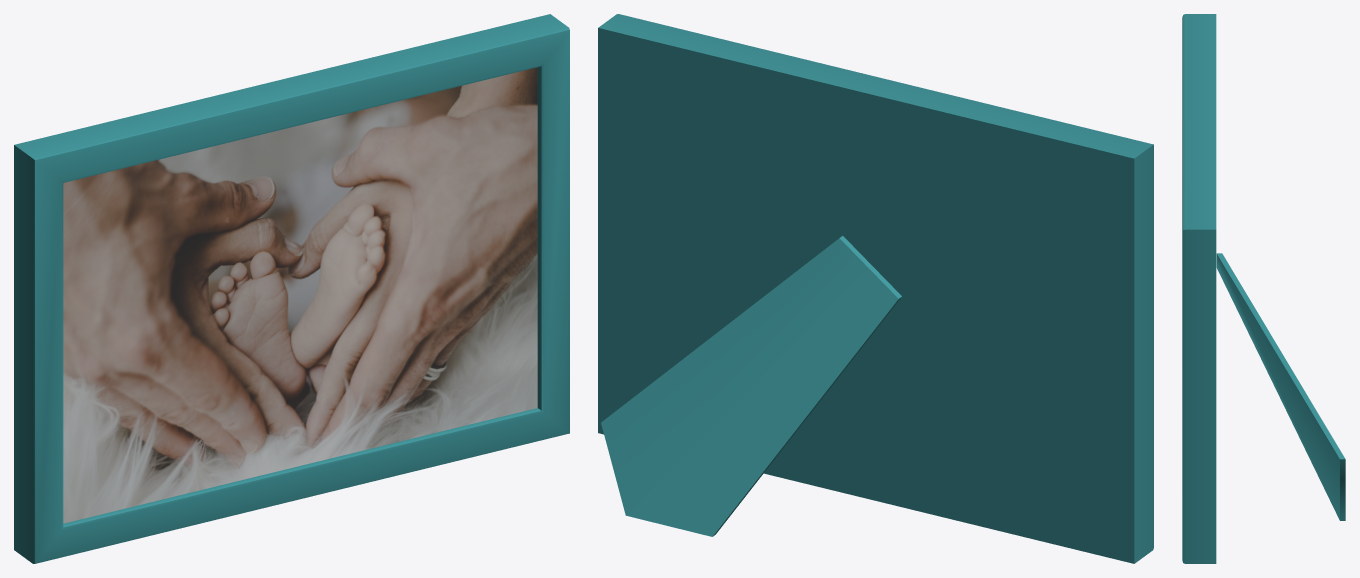
Rendered from Photo frame 1.fbx.
3 renders of one model, left to right at view 1: azimuth 30°, elevation 25°; view 2: azimuth 150°, elevation 25°; view 3: azimuth 270°, elevation 25°, orthographic. The views are drawn at different scales.
Visible parts, largest first — view 1: Photo frame 1; view 2: Photo frame 1; view 3: Photo frame 1.
Boxes of the visible parts, bbox=[...] form: Photo frame 1: bbox=[14, 14, 569, 563]; Photo frame 1: bbox=[598, 14, 1153, 563]; Photo frame 1: bbox=[1182, 14, 1345, 563].
Size of the model in its own units: 180 by 130 by 57.52.
1 material, 1 textured.
